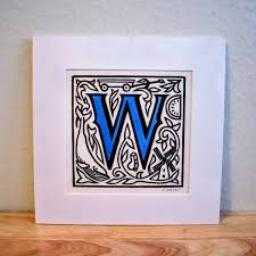w: (80, 90, 174, 168)
